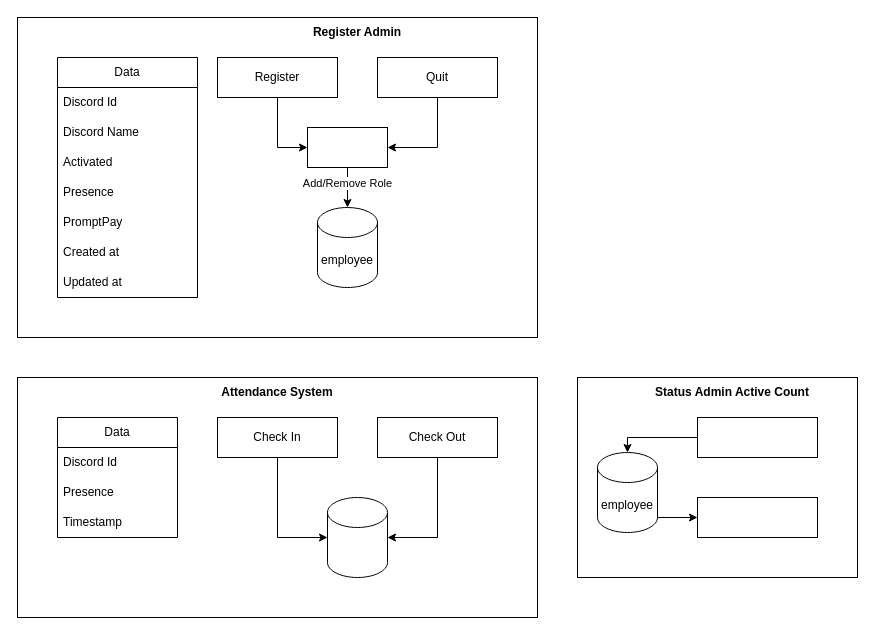
Image size: 875x635. Some labels were removed from this diagram. The centre of each missing label's shape, as x and y in pixels:
attendance: (x=357, y=537)
Get Admin Presence: (x=757, y=437)
is exist: (x=347, y=147)
Update Status: (x=757, y=517)
